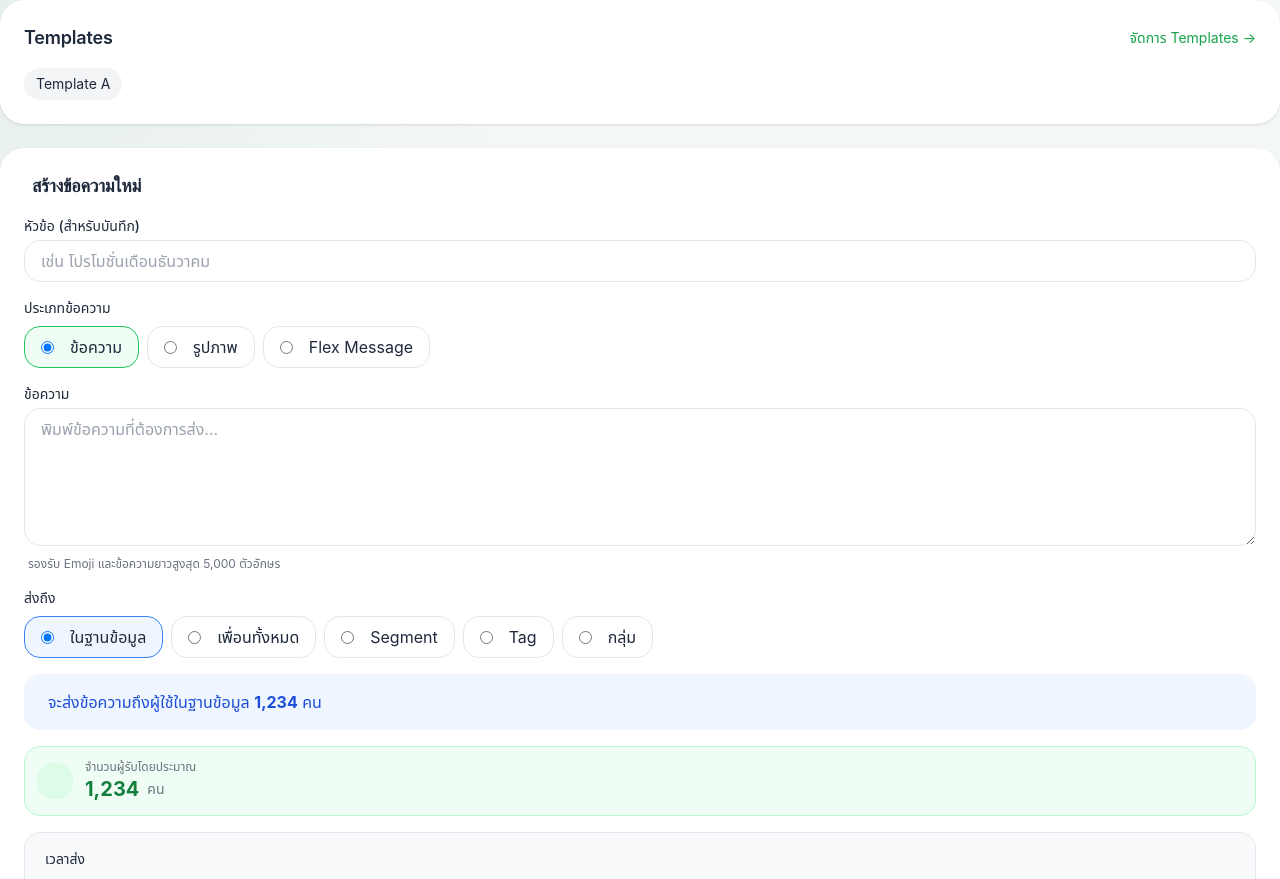
Test: SendComposeForm — message type switching + template quick-load › flex message type reveals the Flex JSON textarea
The image size is (1280, 879).
Click the radio button labelled "Flex Message" at point(286, 347), box left=280, top=340, right=293, bottom=354
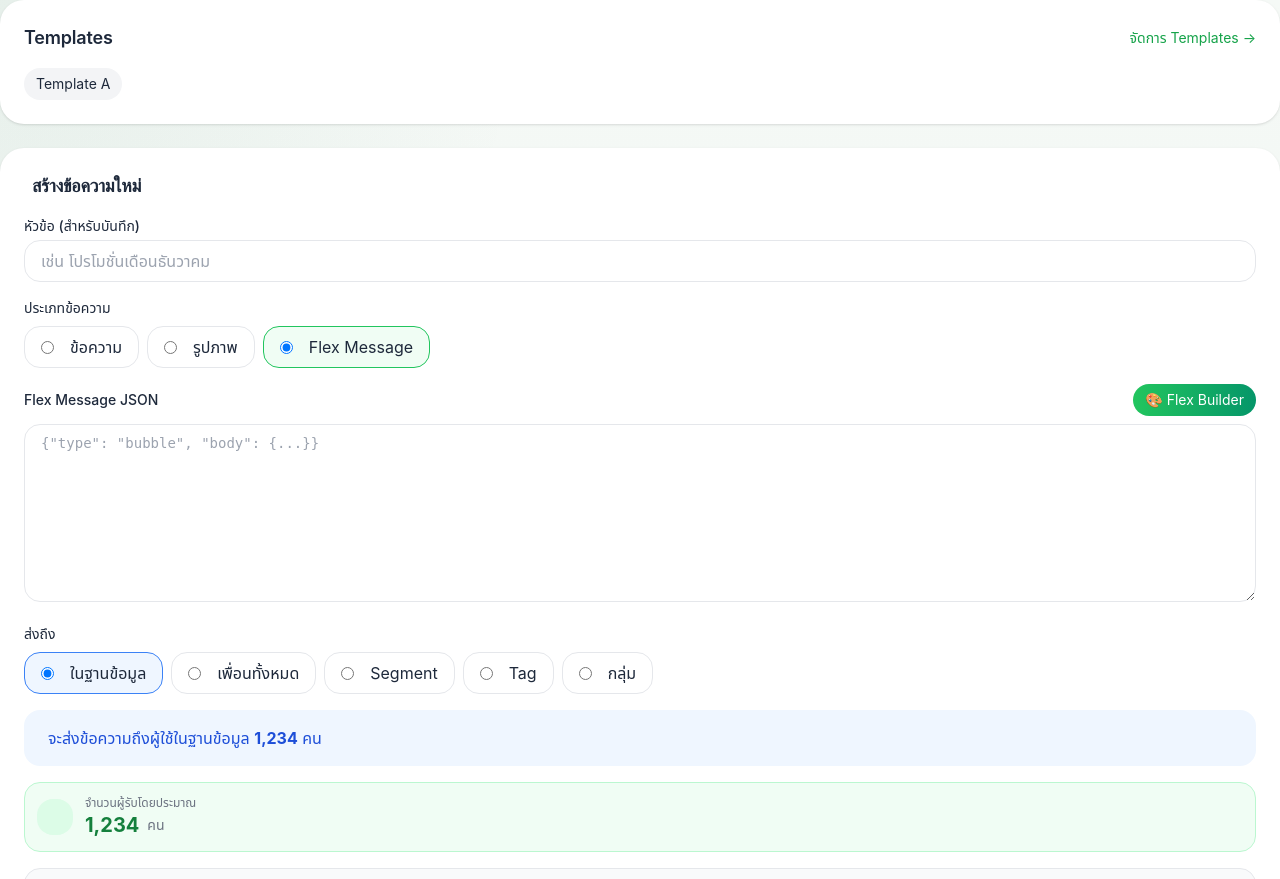
Check: the text box labelled "Flex Message JSON" is shown, box left=24, top=424, right=1256, bottom=602
